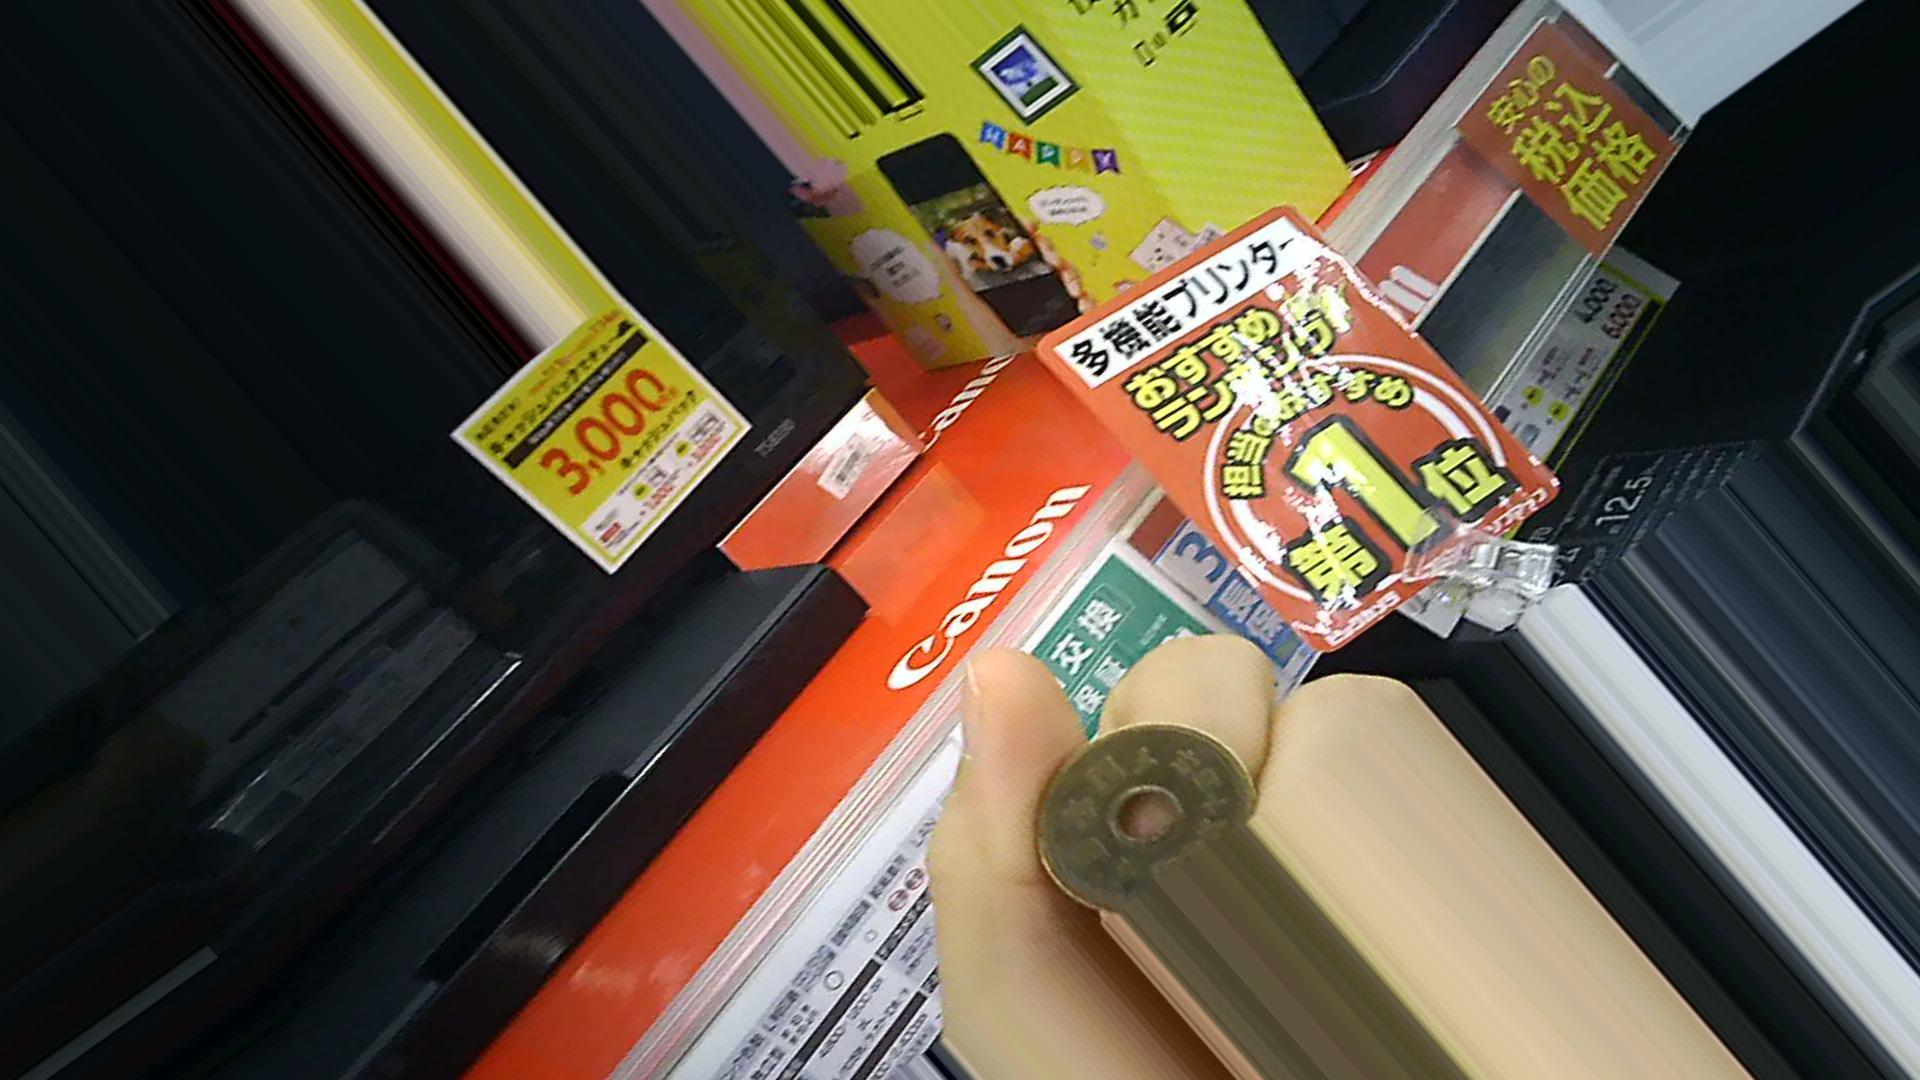5 Yen: (1025, 705, 1265, 924)
